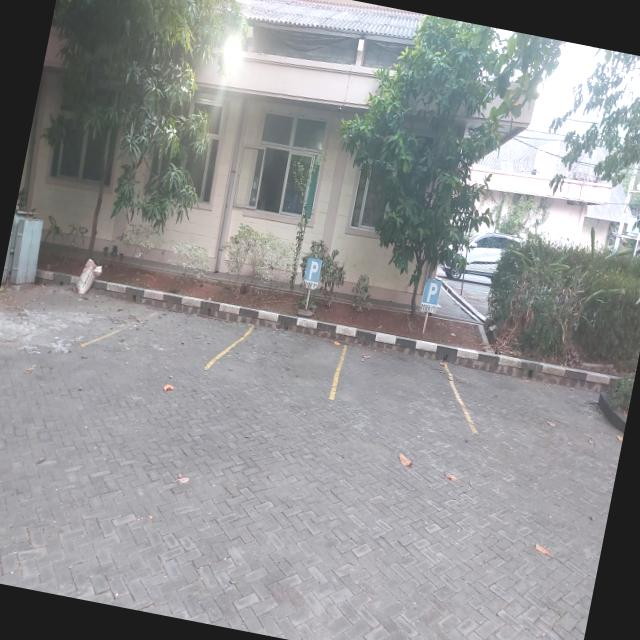free: (441, 365, 621, 458), (331, 340, 475, 429), (204, 325, 348, 400), (81, 308, 256, 369)
